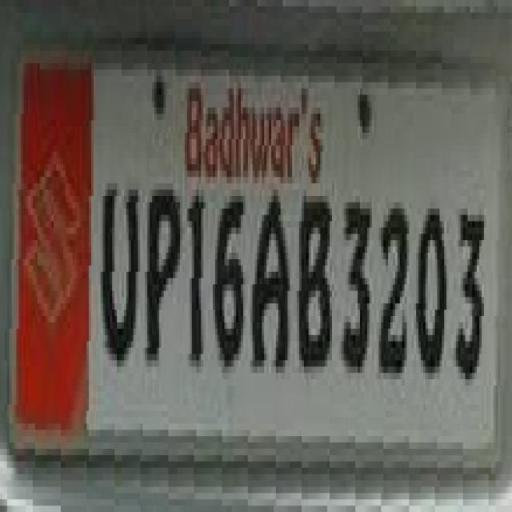number plate: (0, 107, 512, 449)
